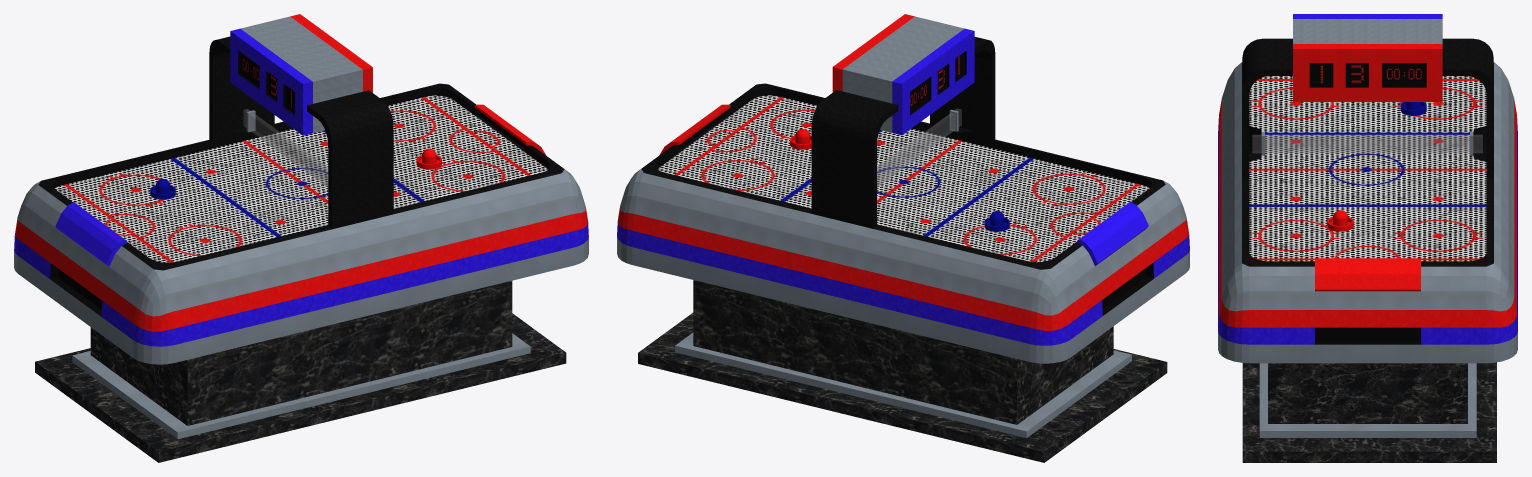
The model's file is hockey.glb.
3 views of the same model, side by side, from view 1: azimuth 30°, elevation 25°; view 2: azimuth 150°, elevation 25°; view 3: azimuth 270°, elevation 25° (orthographic). The views are drawn at different scales.
Visible parts, largest first — view 1: maquina; view 2: maquina; view 3: maquina.
Boxes of the visible parts, x1,y1,x2,y2 form: maquina: (14,14,588,462); maquina: (617,14,1189,462); maquina: (1218,14,1517,462).
Size of the model in its own units: 1.48 by 1 by 0.8255.
Materials: 21 (21 with a texture image).
